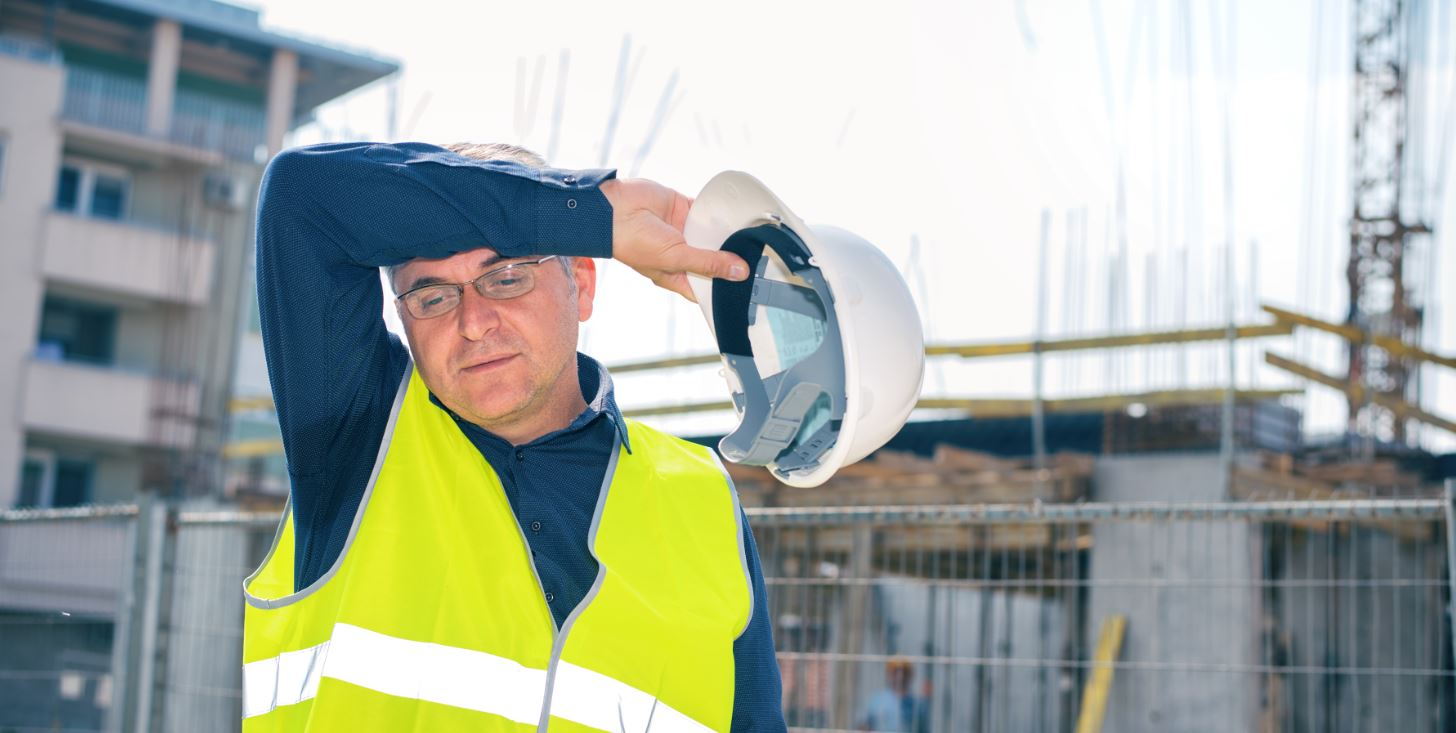noepi: (228, 128, 825, 733)
